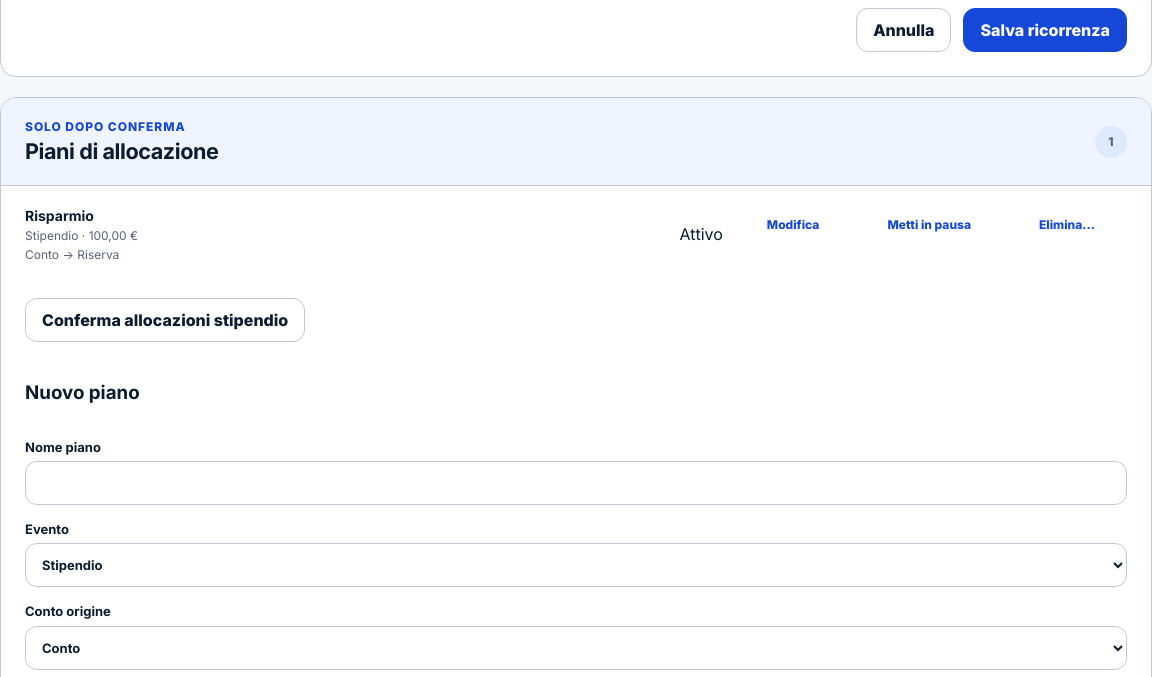
Test case: RecurringPage › keeps the execution id available for a safe retry after a partial allocation failure
(page scrolled)
Click the button "Conferma allocazioni stipendio".
click(165, 320)  # box x1=25 y1=298 x2=305 y2=342
(page scrolled)
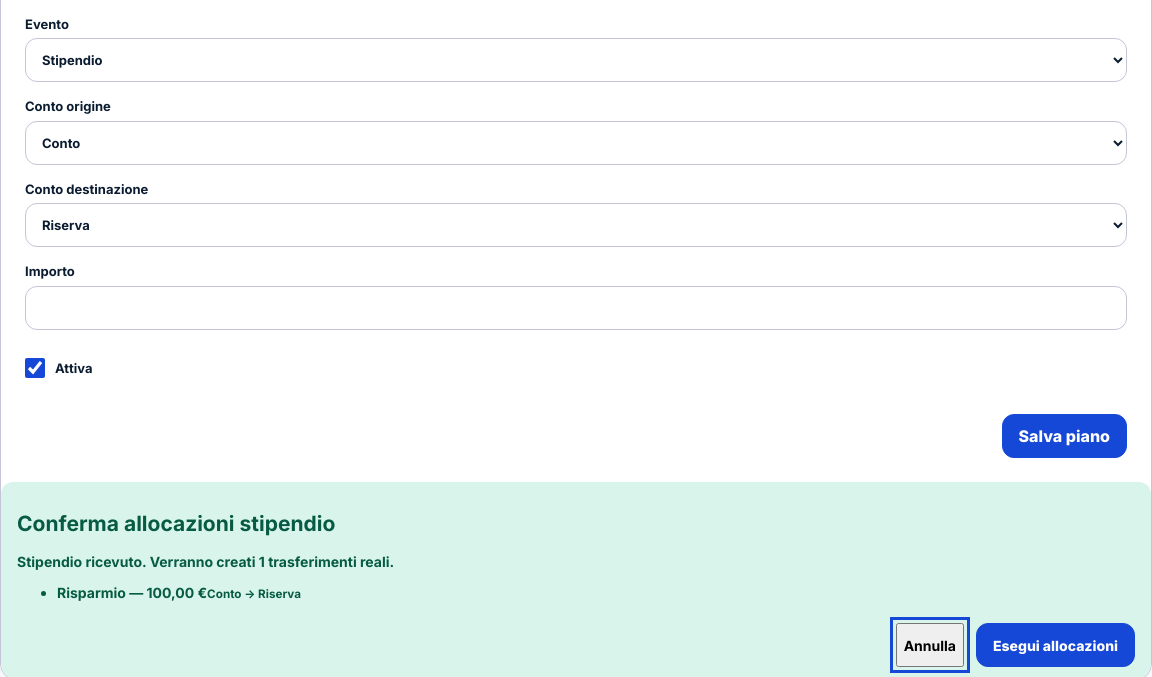
Click the button "Esegui allocazioni".
click(1056, 645)  # box x1=976 y1=623 x2=1135 y2=667
(page scrolled)
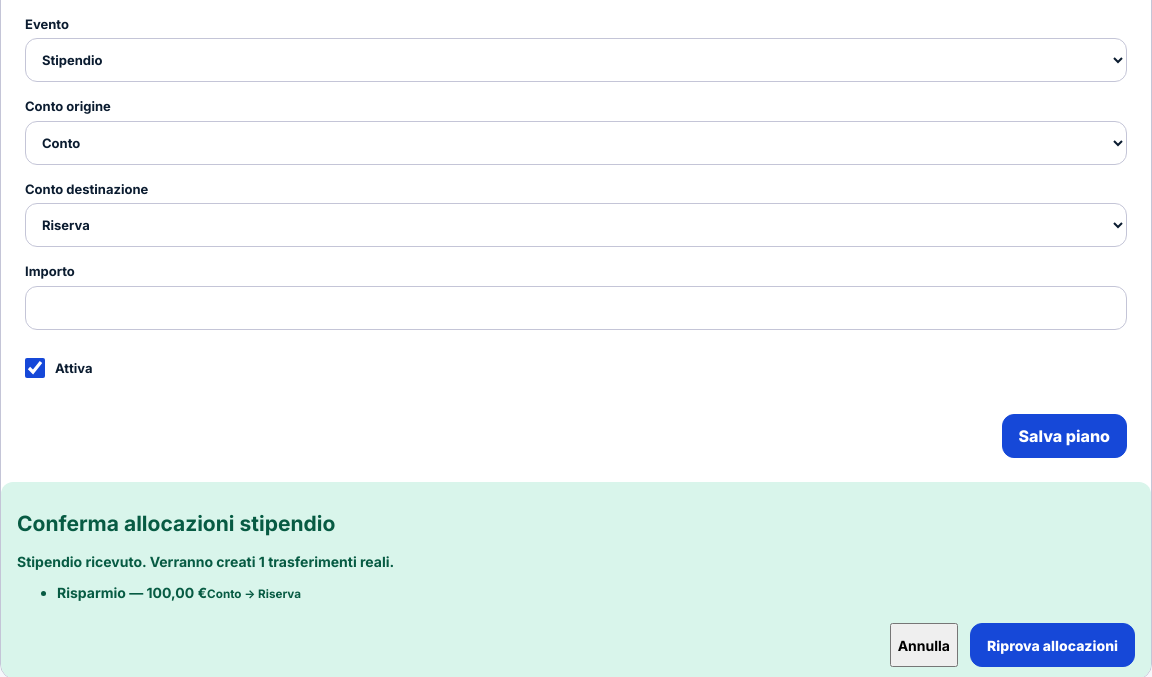
Expected: the button "Riprova allocazioni" is shown
Click the button "Riprova allocazioni".
click(1052, 645)  # box x1=970 y1=623 x2=1135 y2=667
(page scrolled)
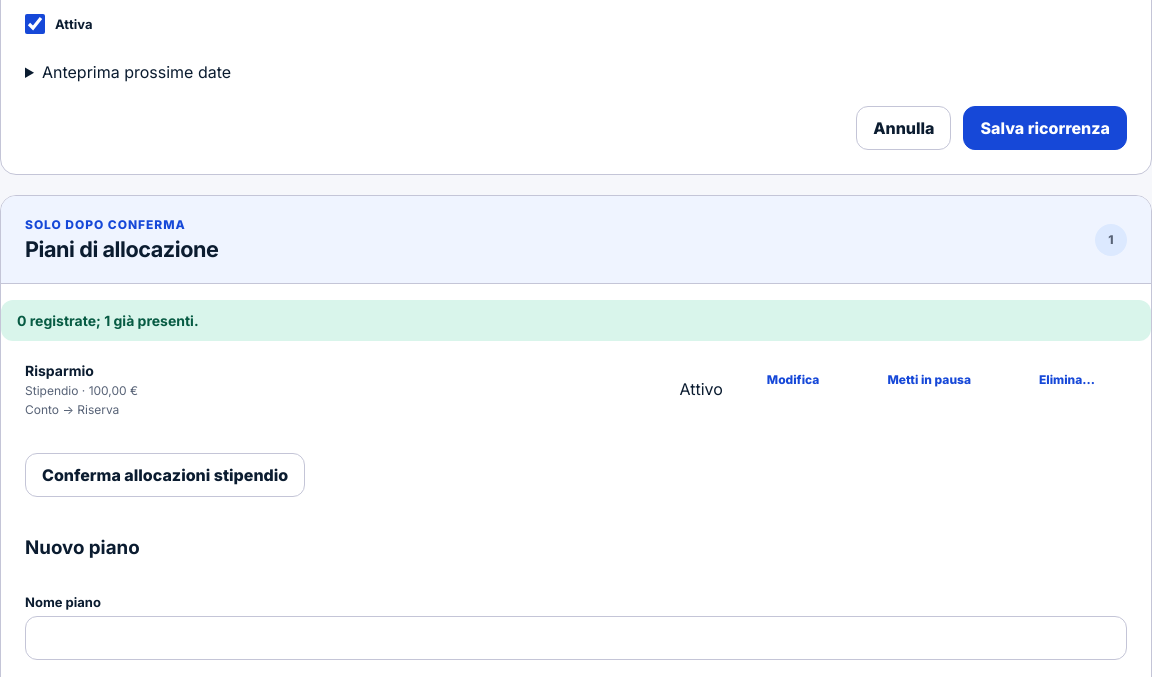
Expected: the message "0 registrate; 1 già presenti." is shown, x1=1 y1=300 x2=1151 y2=341
